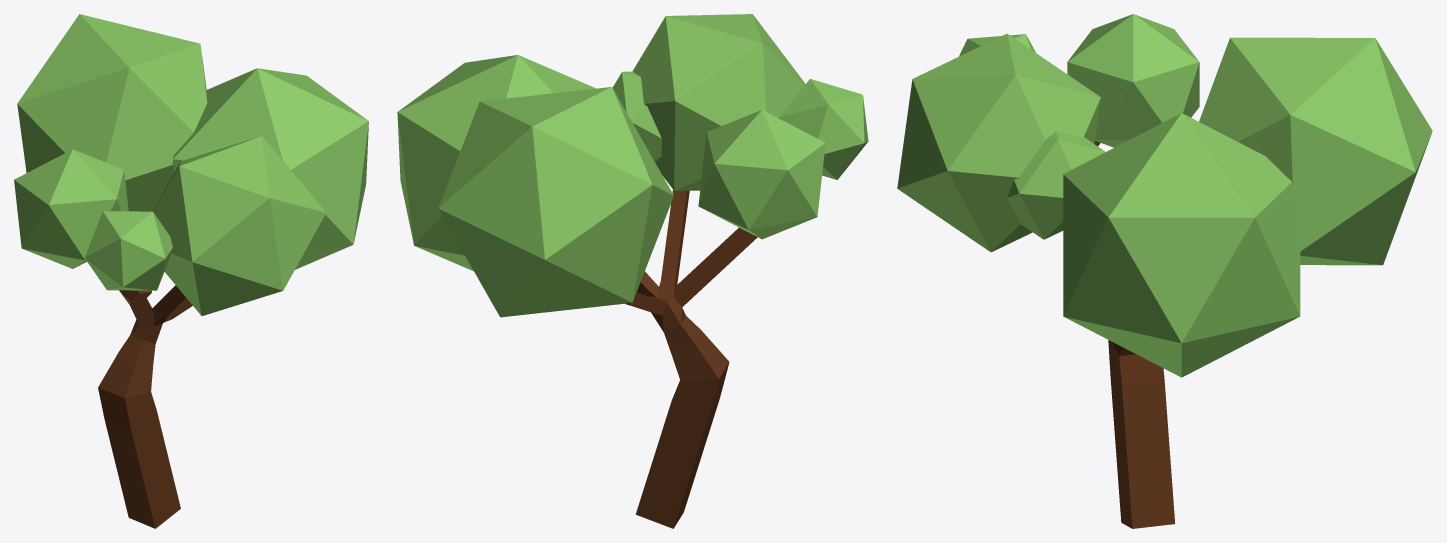
Rendered from Tree1.fbx.
3 views of the same model, side by side, from view 1: azimuth 30°, elevation 25°; view 2: azimuth 150°, elevation 25°; view 3: azimuth 270°, elevation 25° (orthographic). The views are drawn at different scales.
Visible parts, largest first — view 1: Icosphere.002, Icosphere.003, Icosphere.005, Cube, Icosphere, Icosphere.001; view 2: Icosphere.002, Icosphere.003, Cube, Icosphere.005, Icosphere, Icosphere.001, Icosphere.004; view 3: Icosphere.005, Icosphere.002, Icosphere.003, Icosphere, Cube, Icosphere.004.
Boxes of the visible parts, box(x1,y1,x2,y2) form: Icosphere.002: box(17, 14, 207, 211); Icosphere.003: box(153, 136, 326, 315); Icosphere.005: box(172, 68, 368, 269); Cube: box(98, 285, 192, 528); Icosphere: box(14, 149, 128, 268); Icosphere.001: box(84, 211, 172, 290); Icosphere.002: box(438, 87, 673, 317); Icosphere.003: box(632, 14, 805, 190); Cube: box(625, 190, 757, 528); Icosphere.005: box(397, 55, 595, 271); Icosphere: box(698, 110, 825, 239); Icosphere.001: box(779, 79, 868, 179); Icosphere.004: box(612, 71, 661, 162); Icosphere.005: box(1063, 113, 1300, 377); Icosphere.002: box(1199, 37, 1432, 265); Icosphere.003: box(897, 33, 1100, 252); Icosphere: box(1067, 14, 1199, 147); Cube: box(1094, 141, 1175, 528); Icosphere.004: box(1007, 131, 1105, 239).
Size of the model in its own units: 298 by 333 by 322.
